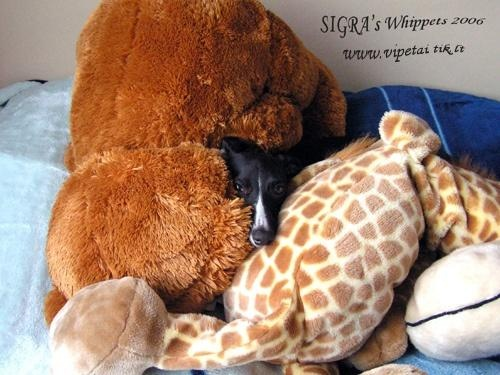dog: (210, 137, 306, 251)
